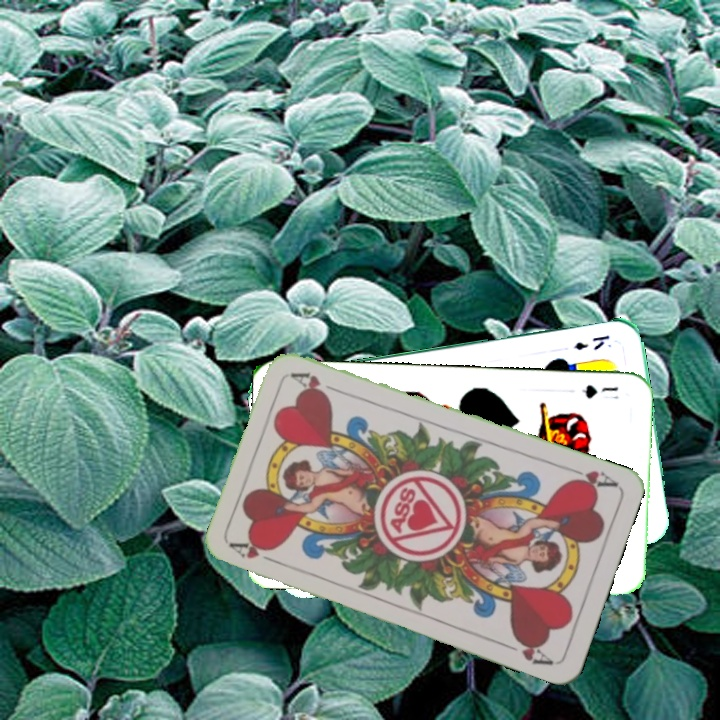EK: (570, 331, 612, 353)
GU: (577, 381, 621, 401)
HA: (562, 463, 620, 493), (227, 538, 284, 568)
